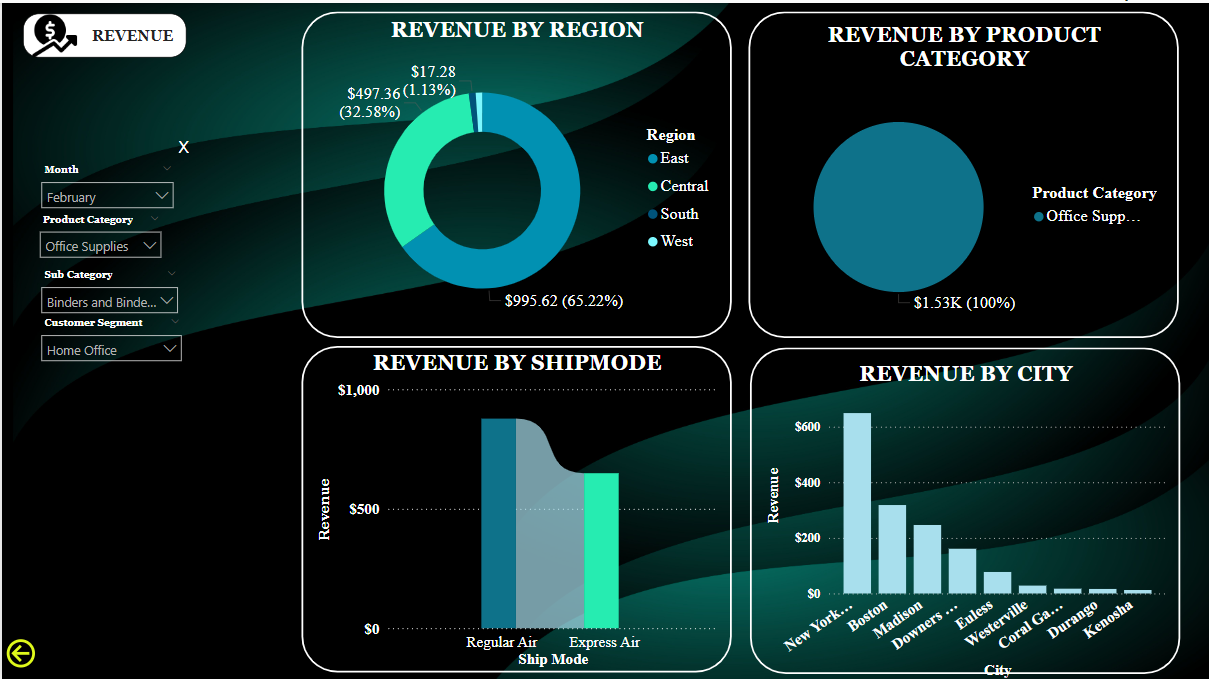

What the dashboard file says about the page in this screenshot:
{"tool":"powerbi","page":{"name":"REVENUE","canvas":[1280,720],"ordinal":1},"visuals":[{"type":"donutChart","title":"REVENUE BY REGION","fields":{"Y":["DataSheet.Revenue"],"Category":["DataSheet.Region"]},"box":[330,15.7,434.3,340],"z":0},{"type":"slicer","title":"month slicer","fields":{"Values":["DataSheet.Order Date.Variation.Date Hierarchy.Month"]},"box":[30.9,165.5,160,57.1],"z":0,"group":"g1"},{"type":"slicer","title":"customer seg slicer","fields":{"Values":["DataSheet.Customer Segment"]},"box":[31.7,328.3,168.5,60.2],"z":1000,"group":"g1"},{"type":"clusteredColumnChart","title":"REVENUE BY CITY","fields":{"Y":["DataSheet.Revenue"],"Category":["DataSheet.City"]},"box":[804.3,380,434.3,340],"z":1000},{"type":"pieChart","title":"REVENUE BY PRODUCT CATEGORY","fields":{"Y":["DataSheet.Revenue"],"Category":["DataSheet.Product Category"]},"box":[802.9,20,434.3,340],"z":2000},{"type":"slicer","title":"product cat slicer","fields":{"Values":["DataSheet.Product Category"]},"box":[29.7,218.3,148.6,71.4],"z":2000,"group":"g1"},{"type":"slicer","title":" sub category slicer","fields":{"Values":["DataSheet.Product Sub-Category"]},"box":[31.7,277.5,165,56.7],"z":3000,"group":"g1"},{"type":"ribbonChart","title":"REVENUE BY SHIPMODE","fields":{"Category":["DataSheet.Ship Mode"],"Y":["DataSheet.Revenue"]},"box":[330,368.6,434.3,340],"z":3000},{"type":"shape","box":[782.9,0,474.3,364.3],"z":4000},{"type":"actionButton","title":"X Button","box":[167.4,137.1,48.4,33.1],"z":4000,"group":"g1"},{"type":"shape","box":[308.6,0,474.3,364.3],"z":5000},{"type":"shape","box":[308.6,354.3,474.3,364.3],"z":6000},{"type":"shape","box":[784.3,355.7,474.3,364.3],"z":7000},{"type":"actionButton","box":[0,668.9,100,40],"z":8000},{"type":"group","id":"g1","title":"Filter","box":[29.7,137.1,186.1,251.4],"z":9000},{"type":"textbox","box":[22.2,11.1,173.3,46.7],"z":10000},{"type":"image","box":[22.2,5.6,67.8,57.8],"z":11000}]}

Visuals, with their boxes in screenshot pixels (x1, y1, x2, y2), scaled from the page's 1280x720 canvas onto the 1209x679 screenshot:
"REVENUE BY REGION" donutChart: [312, 15, 722, 335]
"month slicer" slicer: [29, 156, 180, 210]
"customer seg slicer" slicer: [30, 310, 189, 366]
"REVENUE BY CITY" clusteredColumnChart: [760, 358, 1170, 678]
"REVENUE BY PRODUCT CATEGORY" pieChart: [758, 19, 1169, 340]
"product cat slicer" slicer: [28, 206, 168, 273]
" sub category slicer" slicer: [30, 262, 186, 315]
"REVENUE BY SHIPMODE" ribbonChart: [312, 348, 722, 668]
shape: [739, 0, 1187, 344]
"X Button" actionButton: [158, 129, 204, 161]
shape: [291, 0, 739, 344]
shape: [291, 334, 739, 678]
shape: [741, 335, 1189, 678]
actionButton: [0, 631, 94, 669]
"Filter" group: [28, 129, 204, 366]
textbox: [21, 10, 185, 55]
image: [21, 5, 85, 60]
